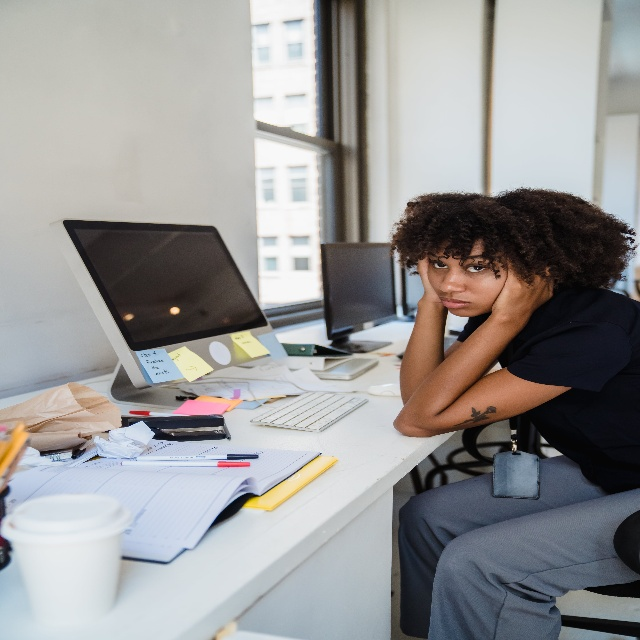Sin_guantes: (491, 250, 553, 317), (416, 246, 442, 305)
